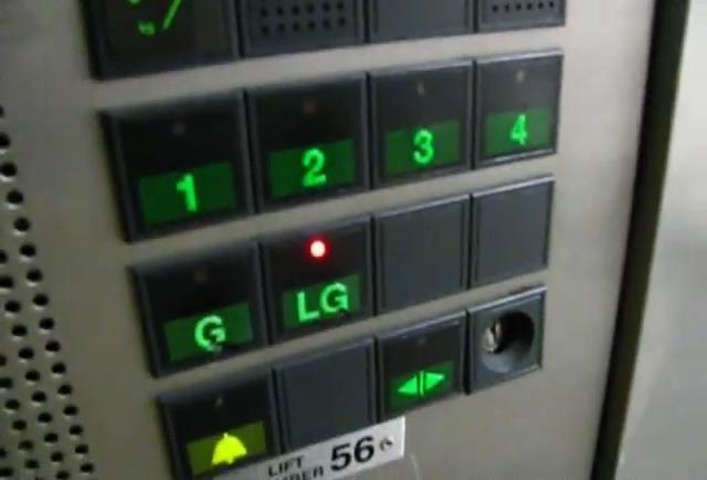1: (137, 160, 245, 231)
2: (265, 136, 360, 195)
3: (383, 124, 463, 172)
4: (483, 106, 553, 152)
G: (161, 301, 254, 364)
LG: (279, 272, 362, 326)
alarm: (185, 422, 268, 470)
open: (390, 357, 458, 410)
